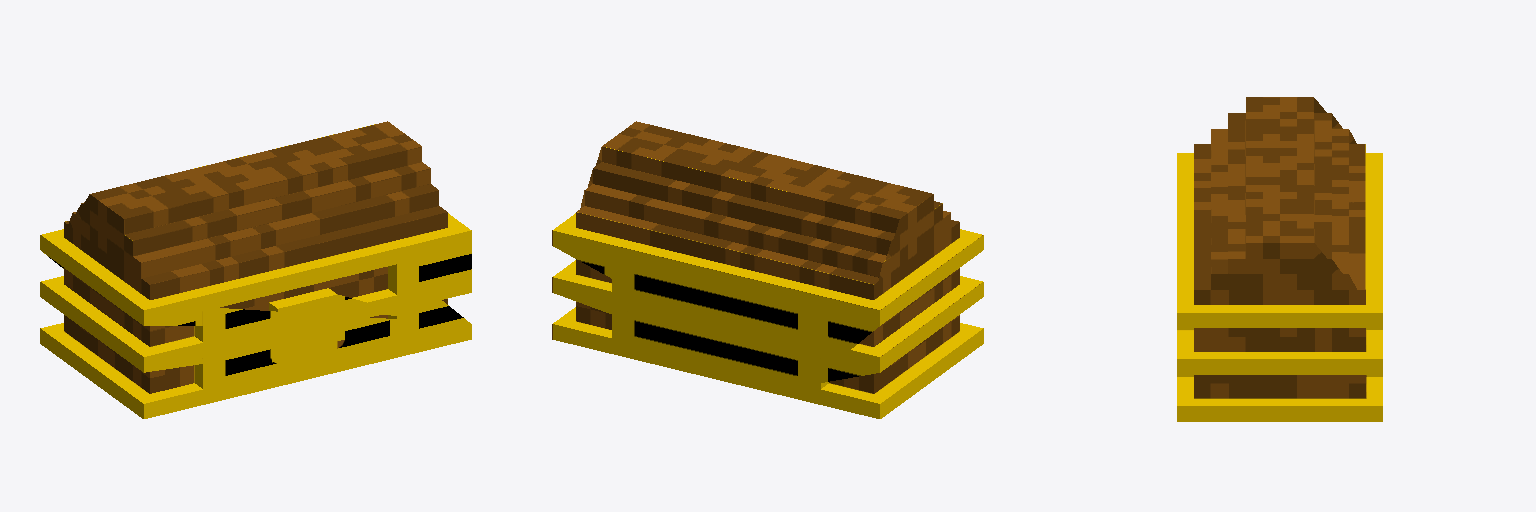
3 views of the same model, side by side, from view 1: azimuth 30°, elevation 25°; view 2: azimuth 150°, elevation 25°; view 3: azimuth 270°, elevation 25° (orthographic).
Visible parts, largest first — view 1: Chest_Big_Closed_Chest_Big_Closed.002; view 2: Chest_Big_Closed_Chest_Big_Closed.002; view 3: Chest_Big_Closed_Chest_Big_Closed.002.
Part boxes in pixels (x1,y1,x2,y2): Chest_Big_Closed_Chest_Big_Closed.002: (40, 121, 471, 418); Chest_Big_Closed_Chest_Big_Closed.002: (552, 121, 983, 418); Chest_Big_Closed_Chest_Big_Closed.002: (1177, 97, 1382, 421).
Size of the model in its own units: 2.2 by 1.1 by 1.2.
Materials: 1 (1 with a texture image).